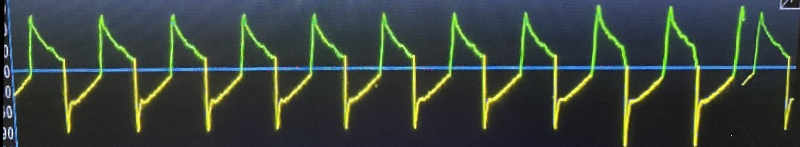peepi: (13, 4, 738, 138)
